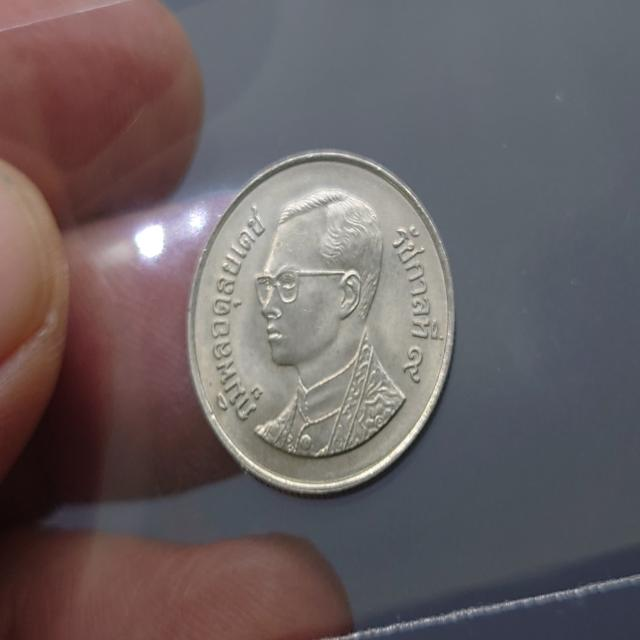1 Bath: (182, 140, 469, 509)
